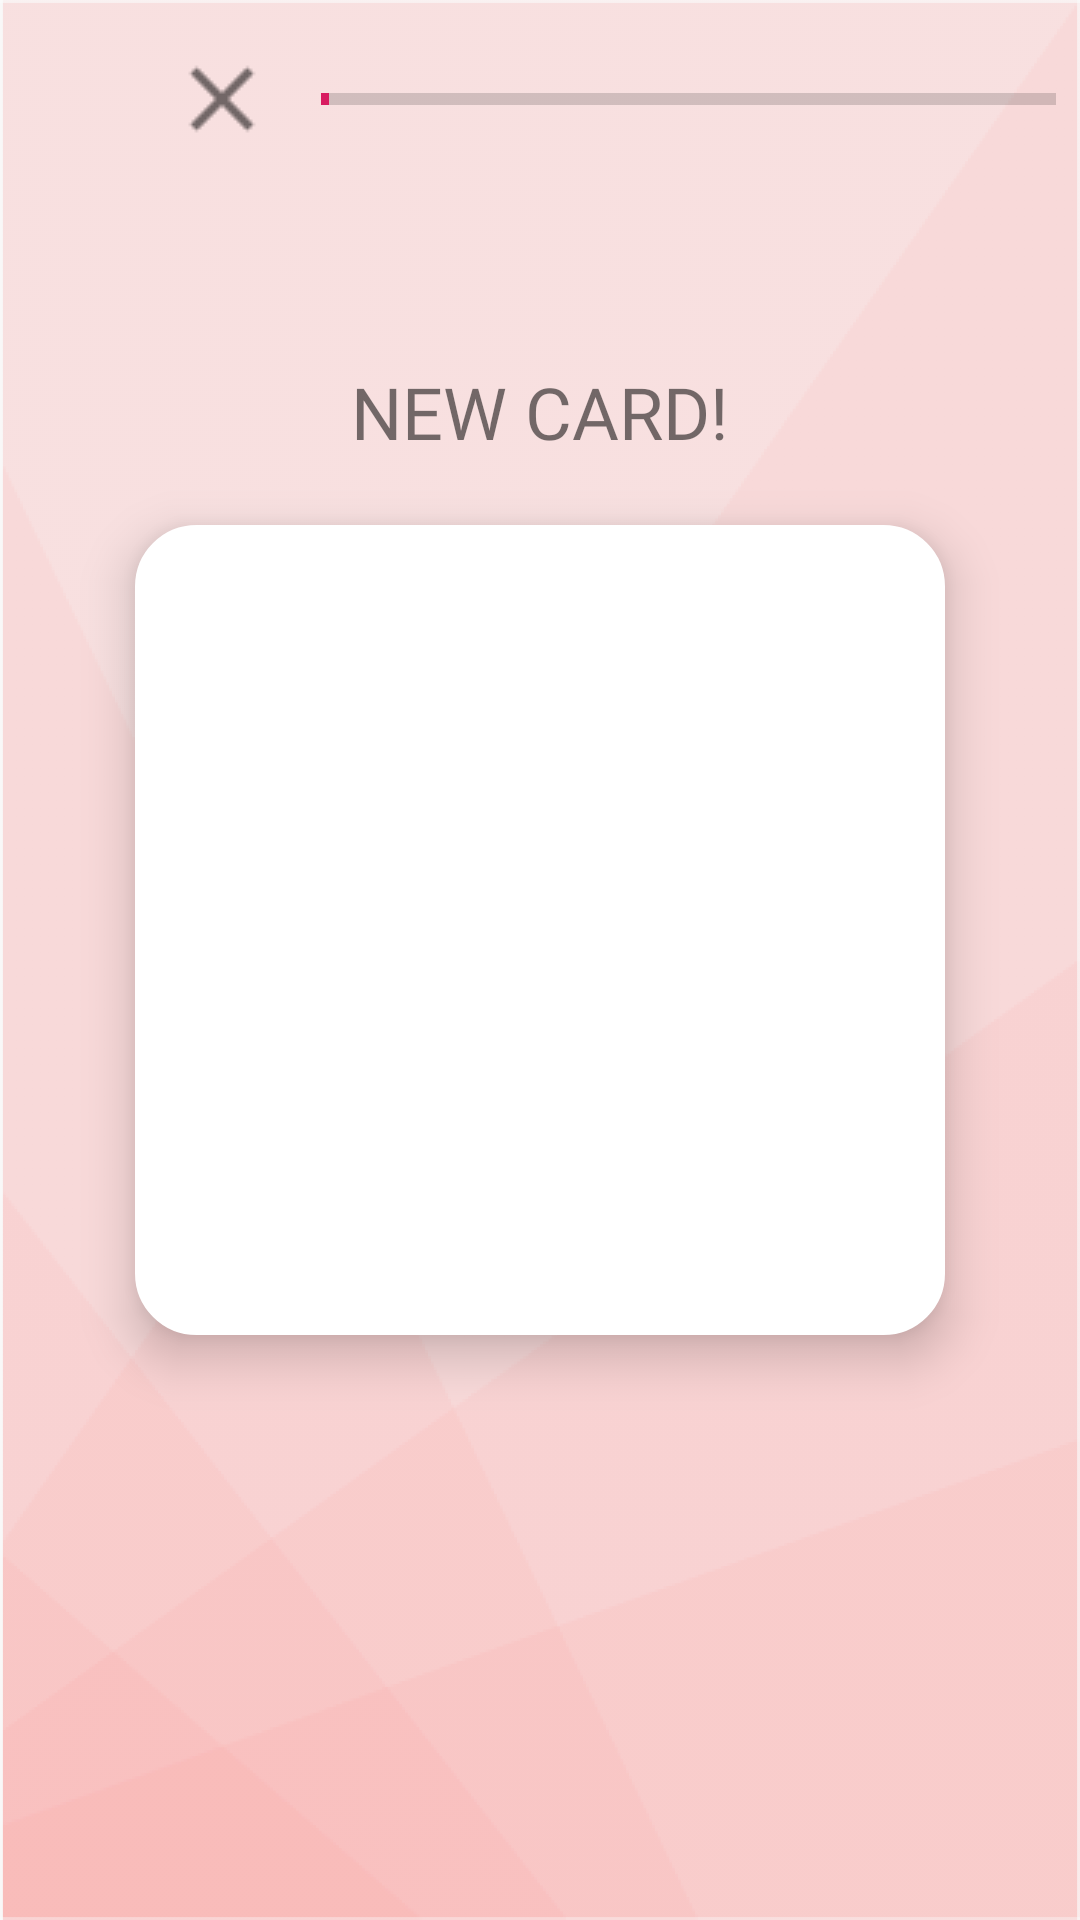

Named icons in this screenshot (1080*1920) and their centers, [x,y]:
close fragment card: [222,99]
